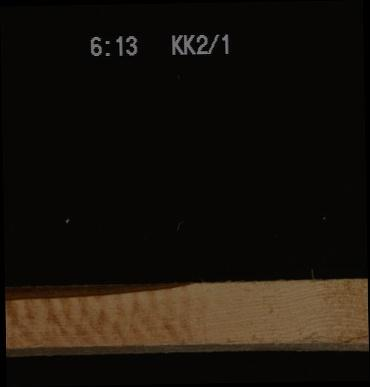wave: (5, 341, 368, 355), (4, 283, 199, 299)
